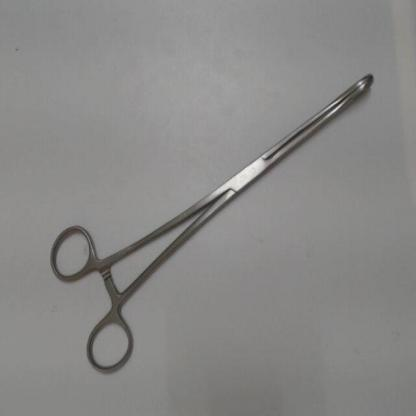Sponge Forceps: (45, 69, 383, 383)
